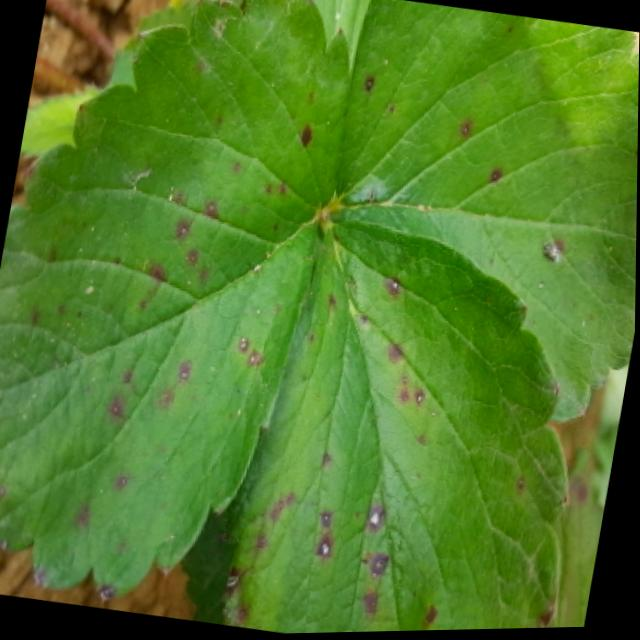Leaf Spot: (0, 0, 350, 602), (219, 215, 572, 635), (335, 0, 639, 430)
